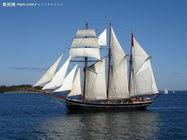fanchuan: (32, 23, 160, 124)
